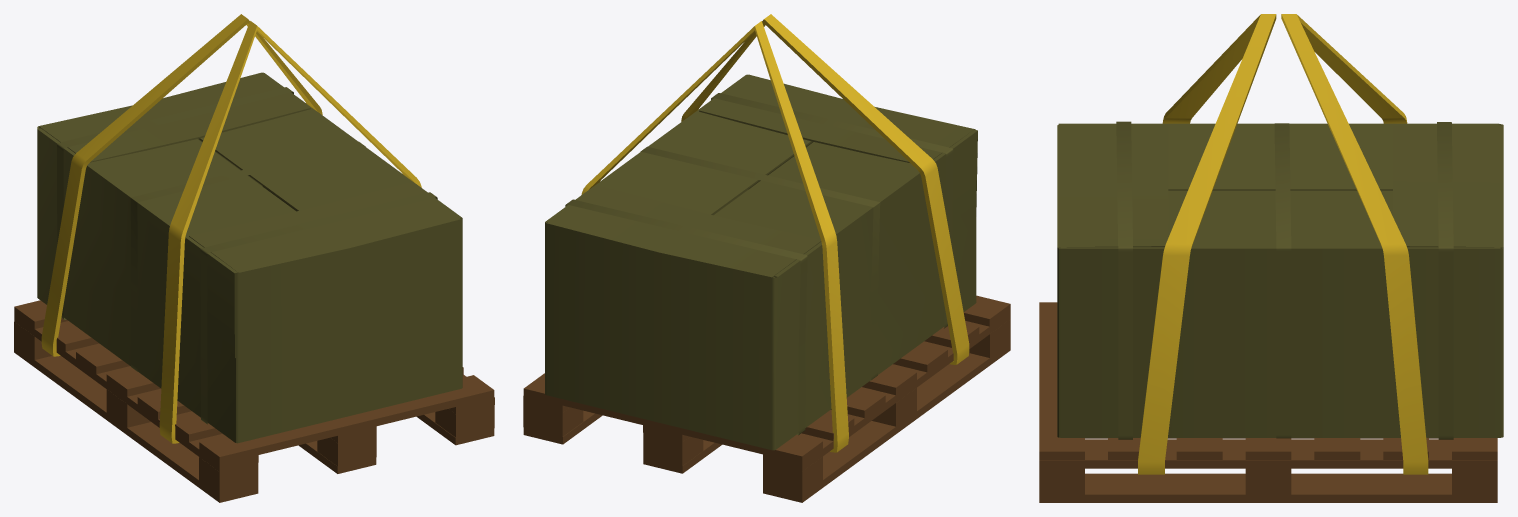
The model's file is Carga_full.fbx.
The picture shows the model from 3 angles, left to right: view 1: azimuth 30°, elevation 25°; view 2: azimuth 150°, elevation 25°; view 3: azimuth 270°, elevation 25°; orthographic projection. The views are drawn at different scales.
Parts seen in each view (by area): view 1: closed box, pallet_2, correa, SM_Box_strap.001, SM_Box_strap, SM_Box_strap.002; view 2: closed box, pallet_2, correa, SM_Box_strap.002, SM_Box_strap, SM_Box_strap.001; view 3: closed box, pallet_2, correa, SM_Box_strap.002, SM_Box_strap, SM_Box_strap.001.
Boxes of the visible parts, bbox=[...] form: closed box: bbox=[37, 72, 462, 443]; pallet_2: bbox=[14, 300, 494, 502]; correa: bbox=[41, 14, 421, 443]; SM_Box_strap.001: bbox=[200, 192, 437, 424]; SM_Box_strap: bbox=[130, 141, 365, 371]; SM_Box_strap.002: bbox=[57, 87, 293, 319]; closed box: bbox=[545, 74, 977, 450]; pallet_2: bbox=[523, 295, 1010, 502]; correa: bbox=[581, 14, 969, 452]; SM_Box_strap.002: bbox=[565, 199, 807, 435]; SM_Box_strap: bbox=[640, 146, 880, 380]; SM_Box_strap.001: bbox=[711, 93, 953, 328]; closed box: bbox=[1057, 123, 1503, 437]; pallet_2: bbox=[1039, 302, 1497, 502]; correa: bbox=[1138, 14, 1428, 474]; SM_Box_strap.002: bbox=[1437, 122, 1453, 439]; SM_Box_strap: bbox=[1274, 123, 1291, 438]; SM_Box_strap.001: bbox=[1116, 121, 1132, 439].
Size of the model in its own units: 201 by 252 by 256.
